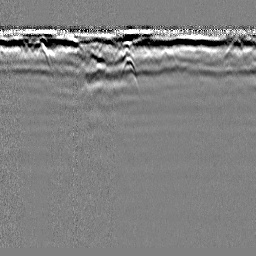cavity: (119, 56, 140, 87)
